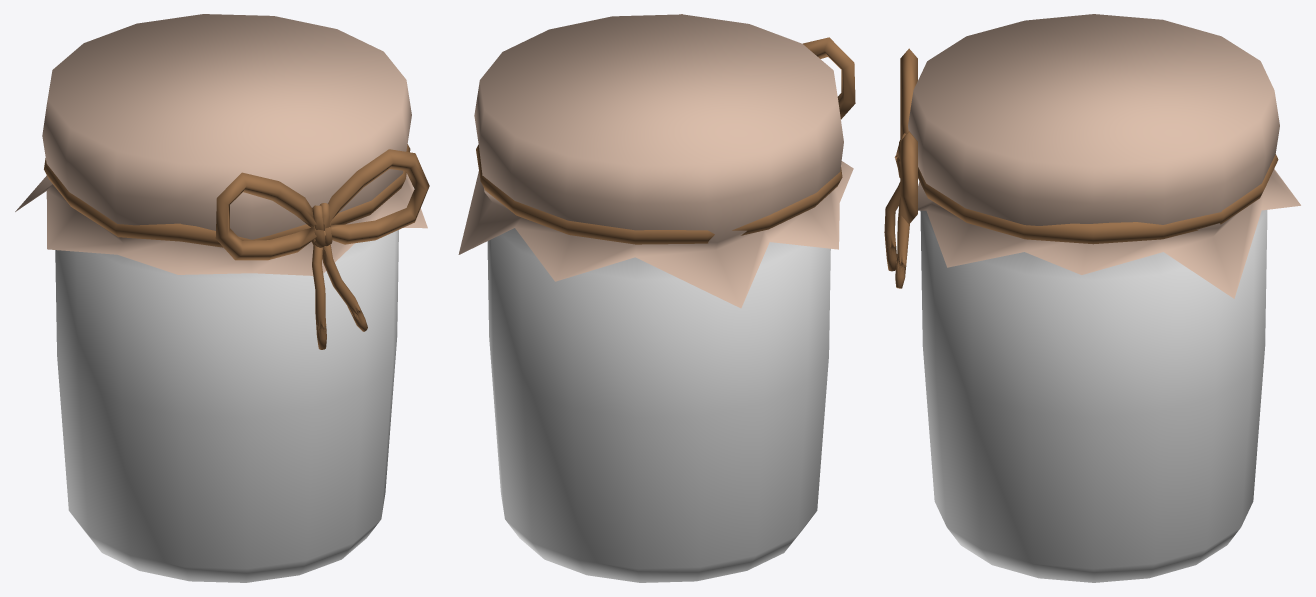
The model's file is honeypot_only.fbx.
3 renders of one model, left to right at view 1: azimuth 30°, elevation 25°; view 2: azimuth 150°, elevation 25°; view 3: azimuth 270°, elevation 25°, orthographic.
Visible parts, largest first — view 1: Cylinder.003; view 2: Cylinder.003; view 3: Cylinder.003.
Boxes of the visible parts, x1,y1,x2,y2 form: Cylinder.003: (15, 14, 429, 582); Cylinder.003: (458, 14, 855, 582); Cylinder.003: (884, 14, 1300, 582).
Size of the model in its own units: 89.39 by 108 by 93.62.
